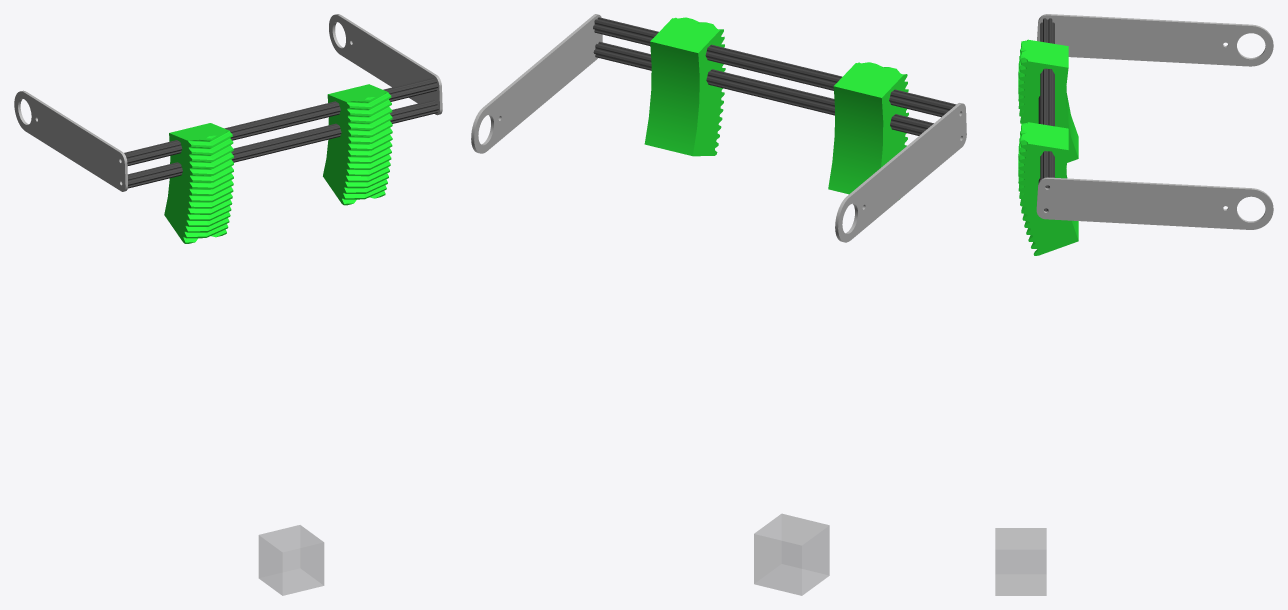
3 renders of one model, left to right at view 1: azimuth 30°, elevation 25°; view 2: azimuth 150°, elevation 25°; view 3: azimuth 270°, elevation 25°, orthographic. The views are drawn at different scales.
Parts seen in each view (by area): view 1: Part 12 (×2), Spur gear (180 teeth), Spur gear (180 teeth)-Mirrored, 15 in. Hex Lite Shaft (×2), Origin Cube; view 2: Part 12 (×2), Spur gear (180 teeth), 15 in. Hex Lite Shaft (×2), Spur gear (180 teeth)-Mirrored, Origin Cube; view 3: Part 12 (×2), Spur gear (180 teeth), Spur gear (180 teeth)-Mirrored, Origin Cube, 15 in. Hex Lite Shaft.
Part boxes in pixels (left/top/right/bottom): Part 12 (×2): left=14, top=14, right=442, bottom=191; Spur gear (180 teeth): left=323, top=84, right=392, bottom=205; Spur gear (180 teeth)-Mirrored: left=164, top=123, right=233, bottom=243; 15 in. Hex Lite Shaft (×2): left=124, top=77, right=438, bottom=188; Origin Cube: left=259, top=525, right=323, bottom=595; Part 12 (×2): left=471, top=14, right=966, bottom=242; Spur gear (180 teeth): left=644, top=17, right=725, bottom=156; 15 in. Hex Lite Shaft (×2): left=593, top=17, right=956, bottom=135; Spur gear (180 teeth)-Mirrored: left=828, top=62, right=908, bottom=199; Origin Cube: left=754, top=514, right=829, bottom=595; Part 12 (×2): left=1036, top=14, right=1273, bottom=229; Spur gear (180 teeth): left=1018, top=122, right=1078, bottom=255; Spur gear (180 teeth)-Mirrored: left=1018, top=39, right=1078, bottom=162; Origin Cube: left=995, top=528, right=1046, bottom=595; 15 in. Hex Lite Shaft: left=1040, top=18, right=1054, bottom=188.
Bounding box in the file's own units: 0.3873 × 0.5418 × 0.2762.
